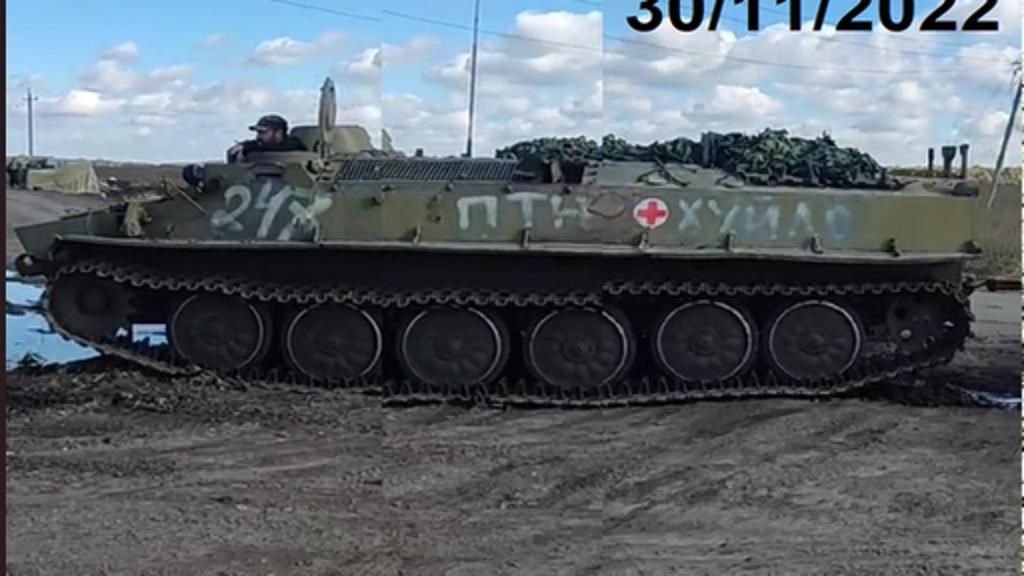APC-IFV: (10, 114, 994, 412)
